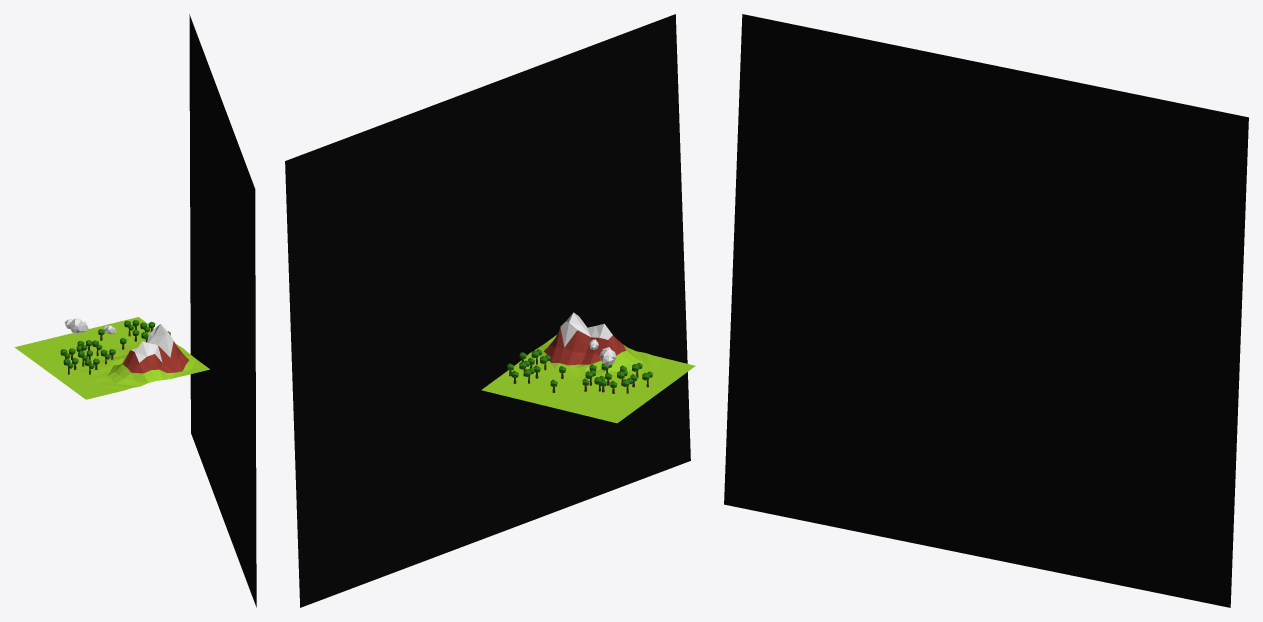
Rendered from Escenario3D.fbx.
The picture shows the model from 3 angles, left to right: view 1: azimuth 30°, elevation 25°; view 2: azimuth 150°, elevation 25°; view 3: azimuth 270°, elevation 25°; orthographic projection. The views are drawn at different scales.
Parts seen in each view (by area): view 1: Plane.001, Plane; view 2: Plane.001, Plane; view 3: Plane.001.
Boxes of the visible parts, box(x1,y1,x2,y2) form: Plane.001: box(189, 14, 256, 607); Plane: box(14, 317, 209, 399); Plane.001: box(285, 14, 690, 607); Plane: box(481, 312, 695, 423); Plane.001: box(724, 14, 1248, 607).
Bounding box in the file's own units: 2866 × 4890 × 4540.
